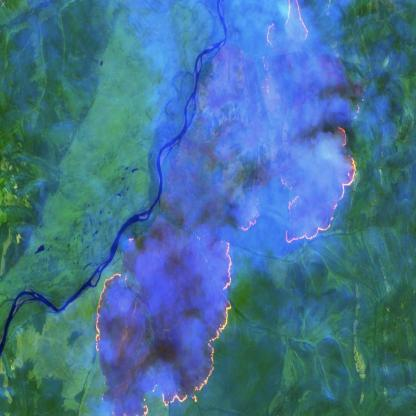fire: (93, 0, 367, 416)
